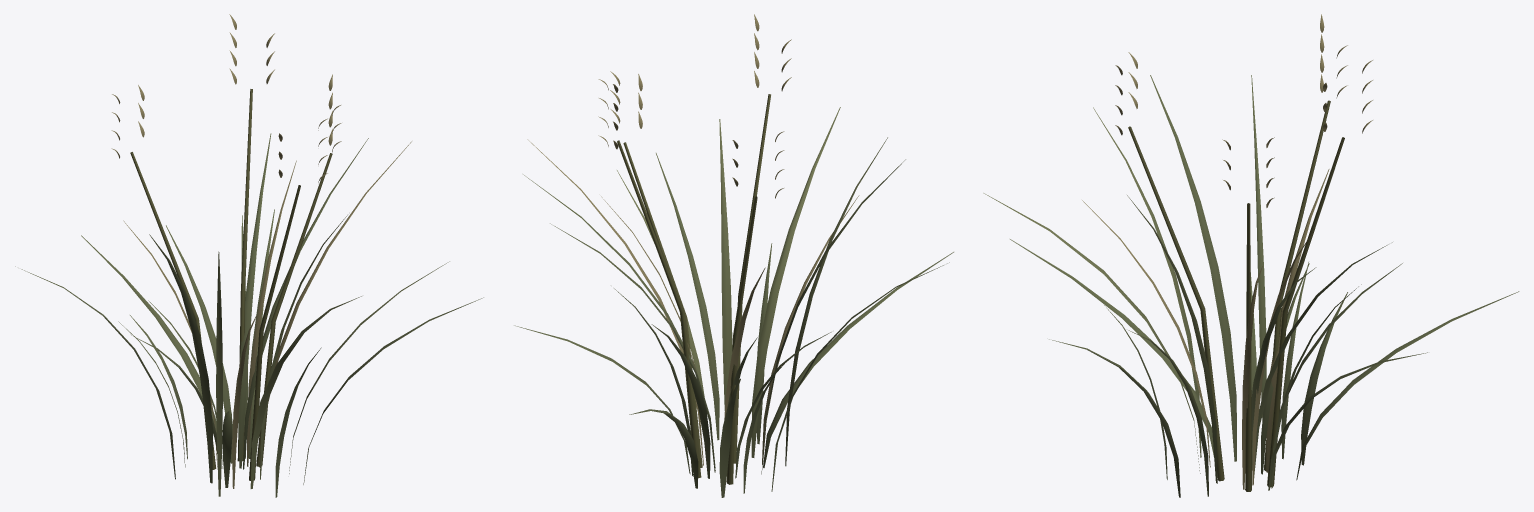
3 renders of one model, left to right at view 1: azimuth 30°, elevation 25°; view 2: azimuth 150°, elevation 25°; view 3: azimuth 270°, elevation 25°, orthographic. The views are drawn at different scales.
Visible parts, largest first — view 1: ground_sedge_near; view 2: ground_sedge_near; view 3: ground_sedge_near.
Part boxes in pixels (x1=…): ground_sedge_near: x1=15, y1=14, x2=483, y2=497; ground_sedge_near: x1=514, y1=14, x2=953, y2=497; ground_sedge_near: x1=983, y1=14, x2=1519, y2=497.
Bounding box in the file's own units: 1.12 × 1.07 × 1.17.
